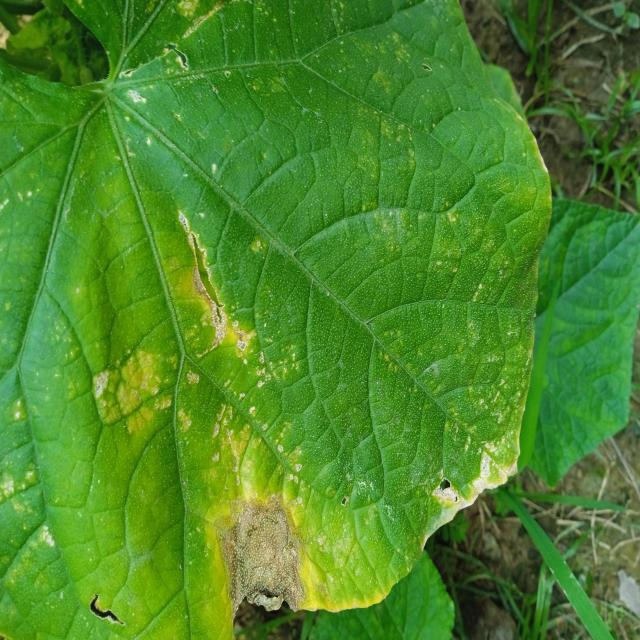cucumber_gummy: (166, 354, 353, 640)
